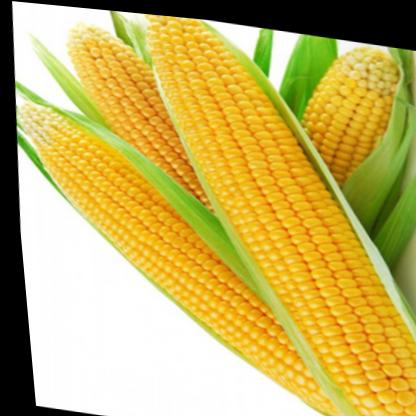---: (118, 9, 416, 416), (7, 100, 367, 416), (45, 14, 228, 217), (286, 26, 414, 192)
